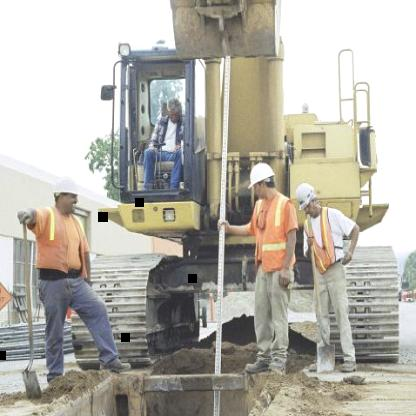helmet: (50, 170, 82, 205), (288, 178, 320, 213), (247, 158, 278, 192)
